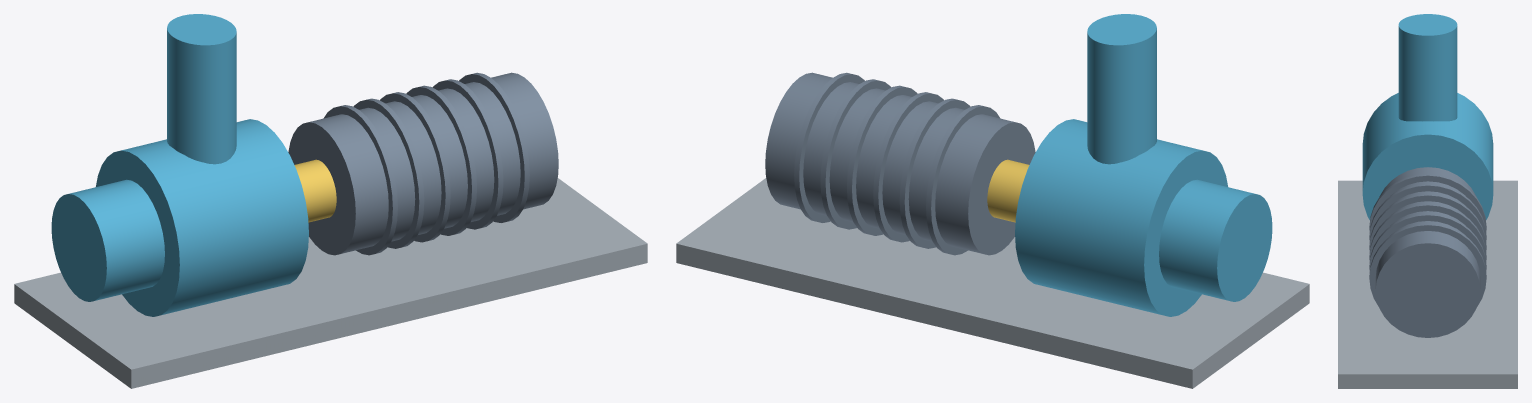
3 views of the same model, side by side, from view 1: azimuth 30°, elevation 25°; view 2: azimuth 150°, elevation 25°; view 3: azimuth 270°, elevation 25° (orthographic). The views are drawn at different scales.
Parts seen in each view (by area): view 1: Base, Pump, Motor, PumpInlet, PumpOutlet, MotorFin0, MotorFin5, MotorFin2, MotorFin3, MotorFin4, MotorFin1, Coupling; view 2: Base, Pump, Motor, PumpInlet, PumpOutlet, MotorFin0, MotorFin5, MotorFin2, MotorFin3, MotorFin4, MotorFin1, Coupling; view 3: Base, Motor, Pump, PumpOutlet, MotorFin5, MotorFin1, MotorFin2, MotorFin3, MotorFin4, MotorFin0.
Part boxes in pixels (x1=…): Base: x1=14, y1=178, x2=647, y2=388; Pump: x1=96, y1=119, x2=308, y2=316; Motor: x1=288, y1=72, x2=558, y2=255; PumpInlet: x1=51, y1=179, x2=164, y2=301; PumpOutlet: x1=167, y1=14, x2=236, y2=164; MotorFin0: x1=323, y1=105, x2=397, y2=255; MotorFin5: x1=459, y1=72, x2=529, y2=222; MotorFin2: x1=380, y1=92, x2=450, y2=242; MotorFin3: x1=406, y1=85, x2=476, y2=235; MotorFin4: x1=432, y1=79, x2=503, y2=229; MotorFin1: x1=353, y1=98, x2=424, y2=248; Coupling: x1=294, y1=159, x2=336, y2=222; Base: x1=676, y1=178, x2=1309, y2=388; Pump: x1=1015, y1=119, x2=1227, y2=316; Motor: x1=765, y1=72, x2=1035, y2=255; PumpInlet: x1=1159, y1=179, x2=1272, y2=301; PumpOutlet: x1=1087, y1=14, x2=1156, y2=164; MotorFin0: x1=926, y1=105, x2=1000, y2=255; MotorFin5: x1=794, y1=72, x2=864, y2=222; MotorFin2: x1=873, y1=92, x2=943, y2=242; MotorFin3: x1=847, y1=85, x2=917, y2=235; MotorFin4: x1=820, y1=79, x2=891, y2=229; MotorFin1: x1=899, y1=98, x2=970, y2=248; Coupling: x1=987, y1=159, x2=1029, y2=222; Base: x1=1338, y1=180, x2=1517, y2=388; Motor: x1=1375, y1=167, x2=1480, y2=337; Pump: x1=1362, y1=93, x2=1493, y2=219; PumpOutlet: x1=1398, y1=14, x2=1457, y2=121; MotorFin5: x1=1369, y1=223, x2=1486, y2=306; MotorFin1: x1=1369, y1=183, x2=1486, y2=241; MotorFin2: x1=1369, y1=193, x2=1486, y2=251; MotorFin3: x1=1369, y1=203, x2=1486, y2=261; MotorFin4: x1=1369, y1=213, x2=1486, y2=271; MotorFin0: x1=1369, y1=174, x2=1486, y2=231.
Size of the model in its own units: 1.4 by 0.738 by 0.55.
